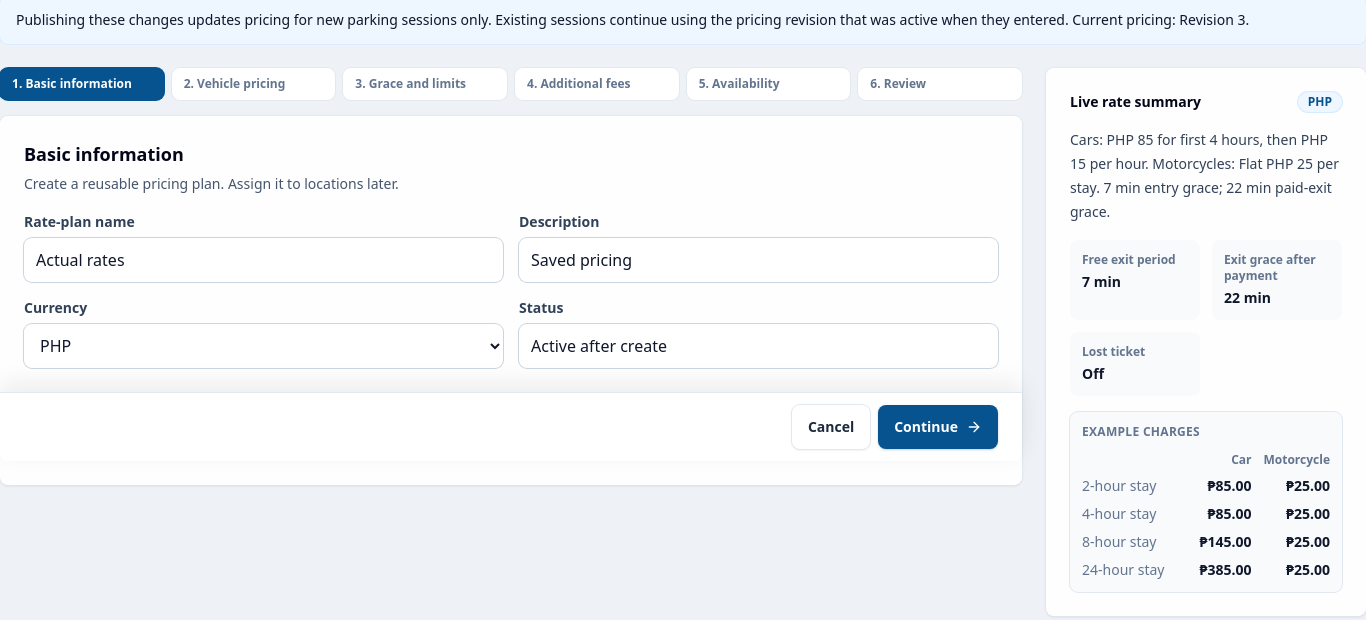
Test case: RatePlanBuilderPage vehicle pricing › prefills an edit from the current backend revision instead of form defaults
The image size is (1366, 620).
Expected: the field showing "Actual rates" is shown, [24,238,503,282]
Step 1. Click the button "Continue" → point(938, 427), box [878,405,998,449]
(page scrolled)
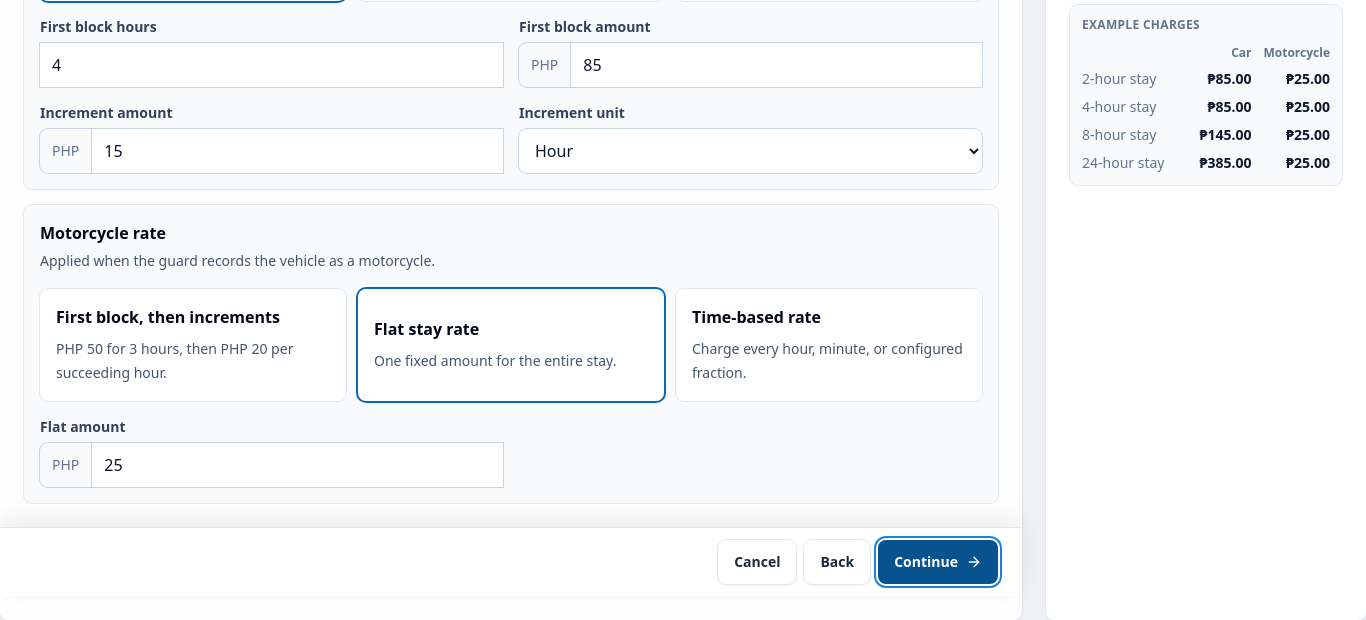
Expected: the number field labelled "First block hours" holds "4", [40,43,503,87]
Expected: the number field labelled "First block amount" holds "85", [571,43,982,87]
Expected: the number field labelled "Increment amount" holds "15", [92,129,503,173]
